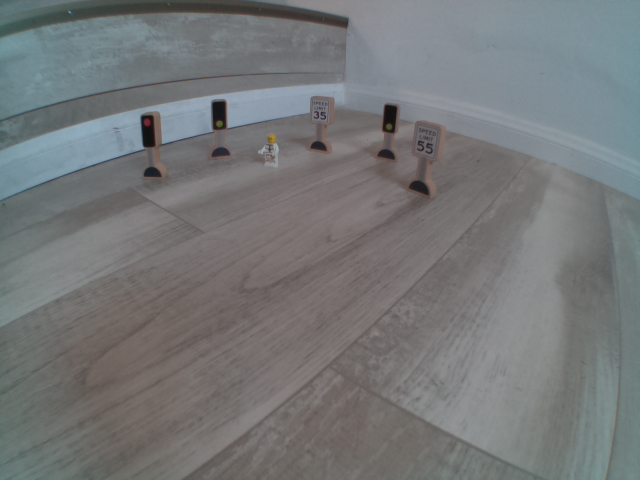Green Traffic Light: (206, 96, 234, 135), (377, 97, 402, 139)
Red Traffic Light: (138, 107, 165, 152)
Speed Limit 35: (305, 94, 333, 124)
Speed Limit 55: (411, 116, 445, 162)
person: (255, 132, 283, 167)
